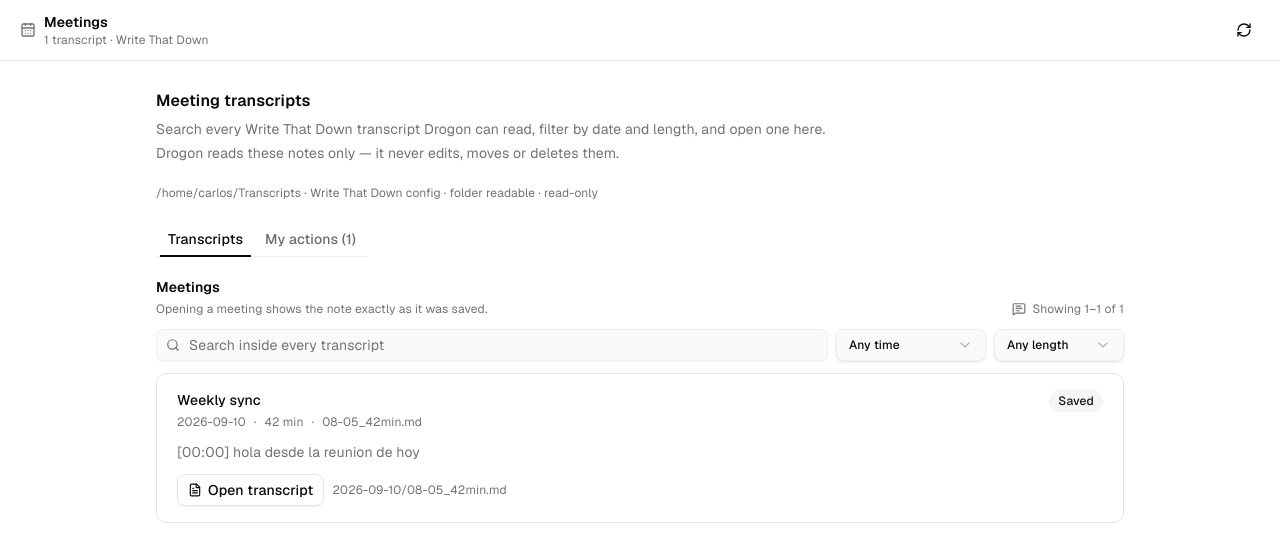
Test case: Meetings page list and reader › clears every filter back to the unfiltered corpus
Check: the heading "Weekly sync" is shown, box [177, 391, 261, 409]
In the search field named "Search transcripts": (492, 345) [156, 329, 828, 361], type "budget"
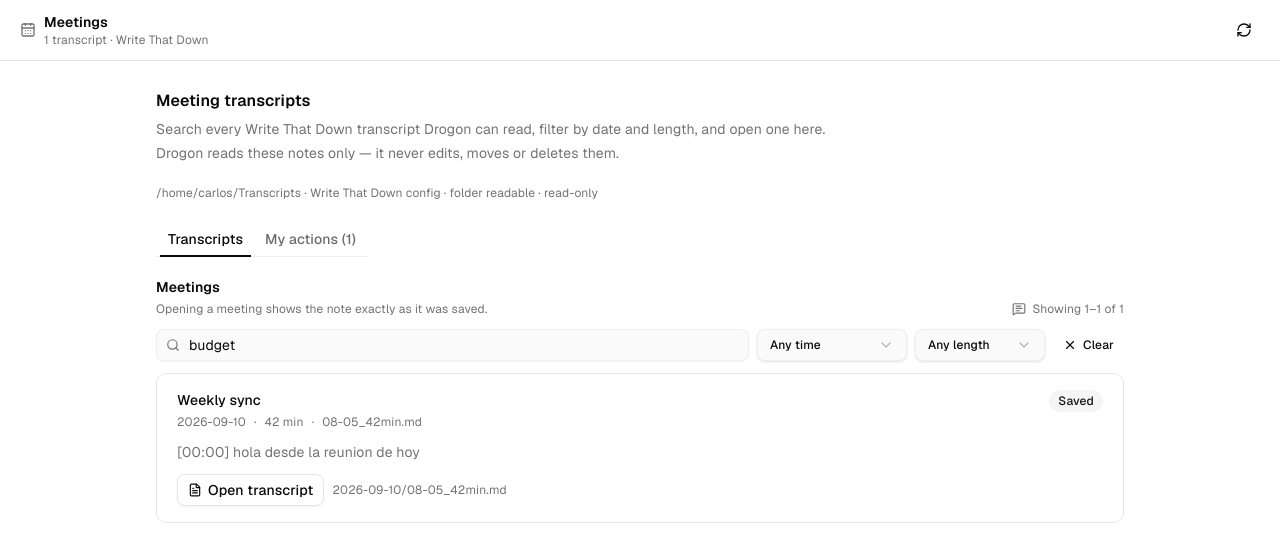
Click the button "Clear": (1089, 345) [1053, 329, 1124, 361]
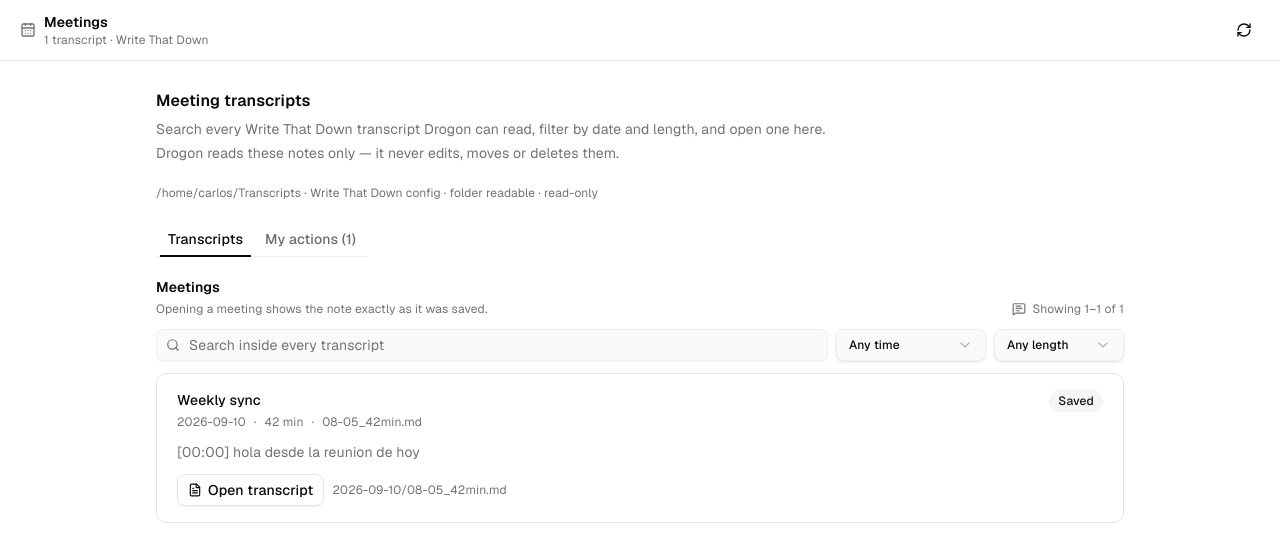
Check: the button "Clear" is gone
